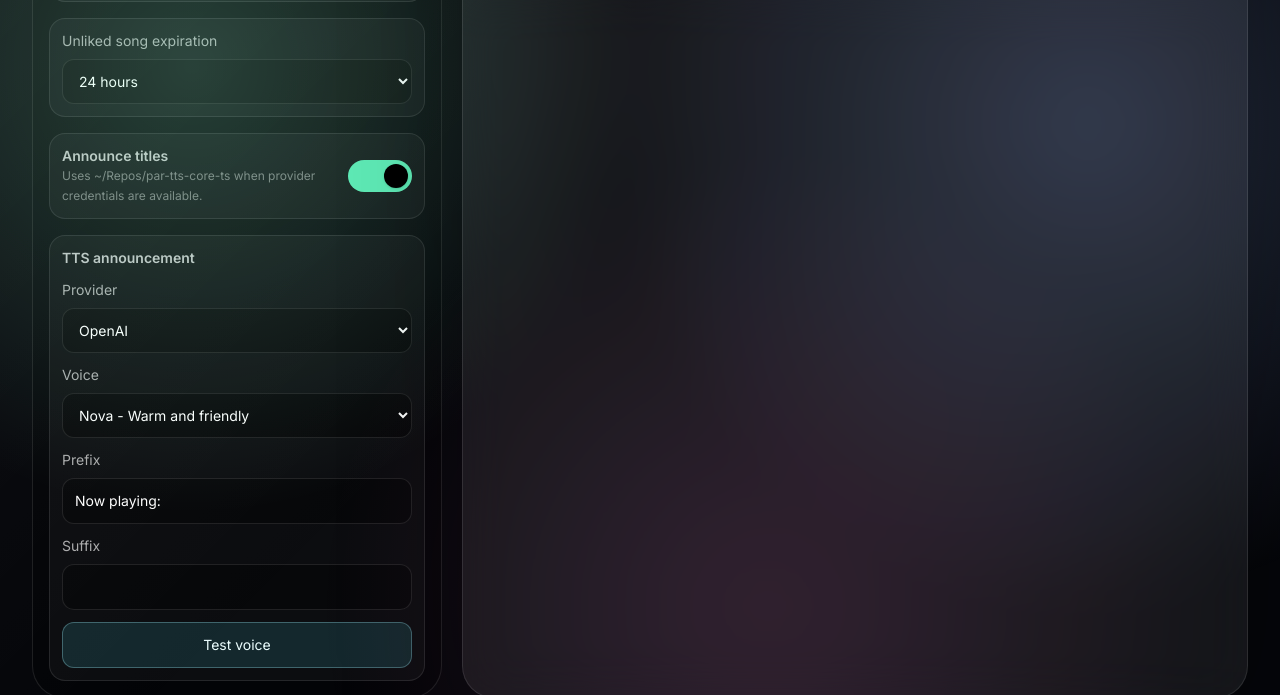
Scenario: radio page loading › plays a generated test voice sample from the selected TTS settings
(page scrolled)
Check: the button "Test voice" is enabled, box [62,622,412,668]
Step 1. Select "Alloy - Neutral and balanced" in the dropdown named "TTS voice" → (237, 416), box [62,393,412,438]
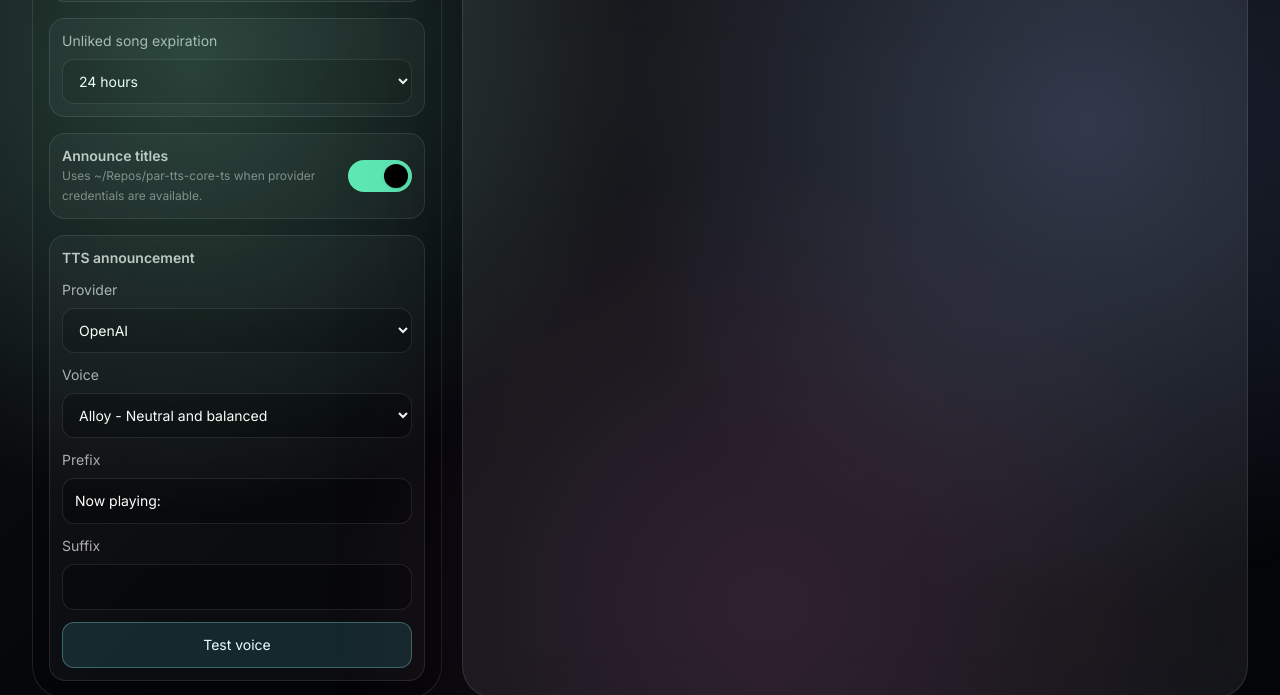
Step 2. Click the button "Test voice" → (237, 645), box [62,622,412,668]
(page scrolled)
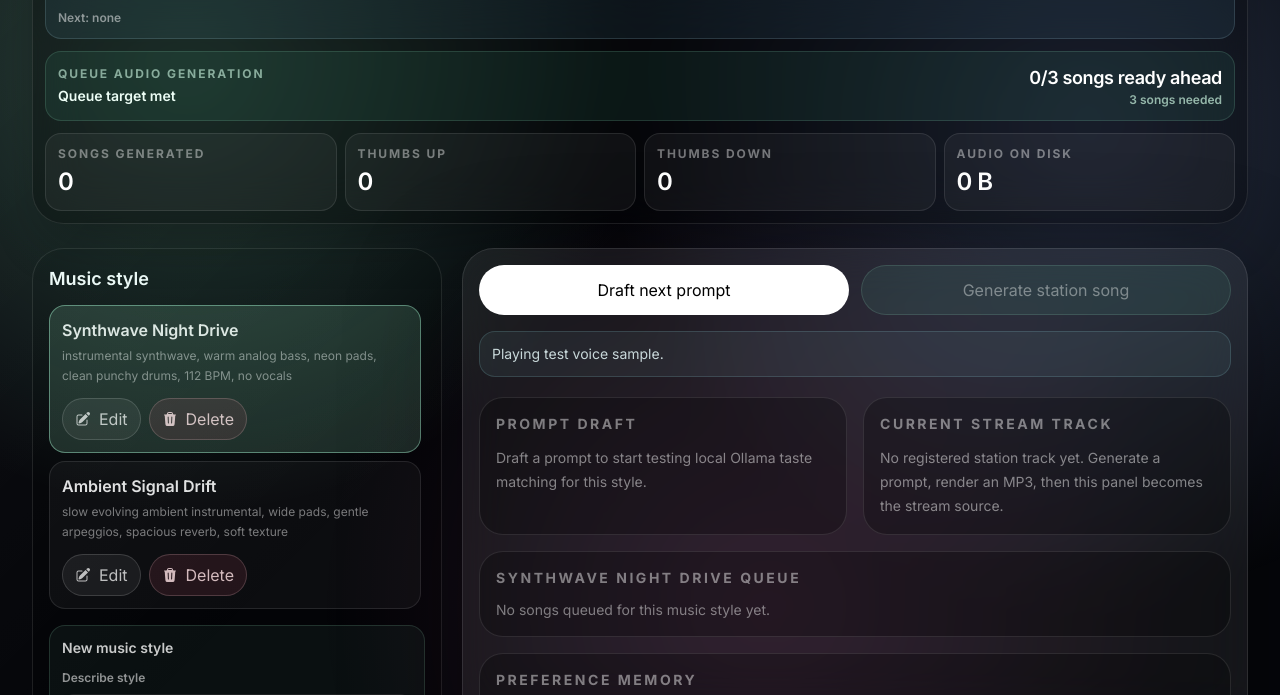
Check: the text "Playing test voice sample." is shown, box [479,331,1231,377]
